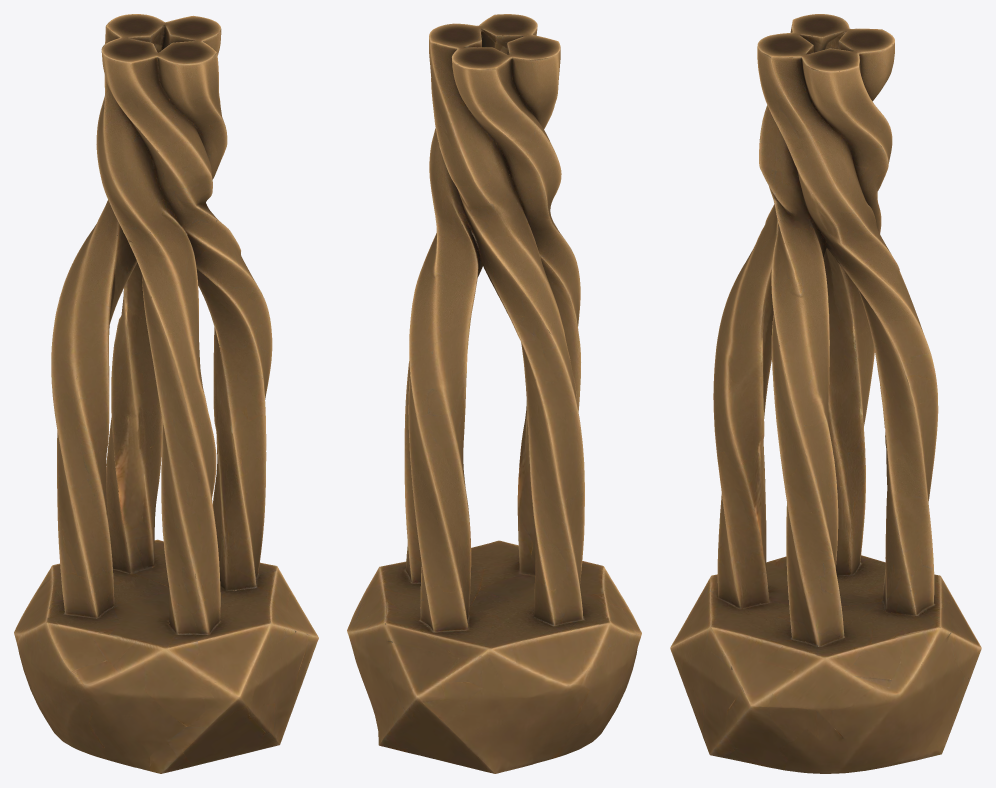
Rendered from fig-faeden.glb.
The picture shows the model from 3 angles, left to right: view 1: azimuth 30°, elevation 25°; view 2: azimuth 150°, elevation 25°; view 3: azimuth 270°, elevation 25°; orthographic projection.
Parts seen in each view (by area): view 1: Mesh_0; view 2: Mesh_0; view 3: Mesh_0.
Part boxes in pixels (x1,y1,x2,y2): Mesh_0: (14, 14, 318, 773); Mesh_0: (347, 14, 641, 773); Mesh_0: (670, 14, 981, 773).
Bounding box in the file's own units: 0.7177 × 1.9 × 0.7857.
Materials: 1 (1 with a texture image).
